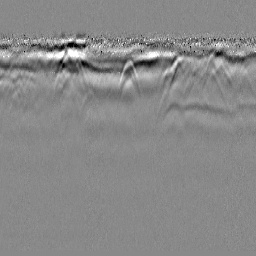cavity: (116, 55, 140, 103)
